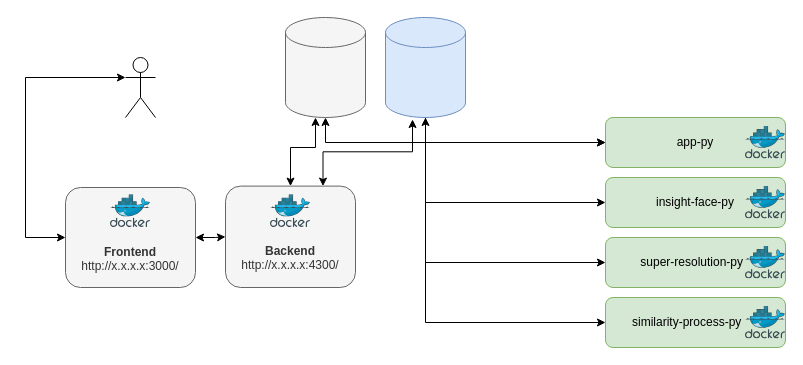
The diagram is 803 pixels wide and 365 high, and some of its shapes have lost their labels. The centre of each missing label's shape, as x and y in pixels:
Database Postgres: the point at 425,67
Output storage: the point at 325,67
User: the point at 140,87
